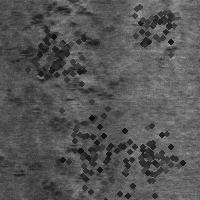rolled-in_scale: (14, 1, 114, 134), (39, 95, 145, 200), (4, 138, 129, 199), (105, 113, 191, 199), (16, 13, 92, 89), (116, 0, 190, 60)
